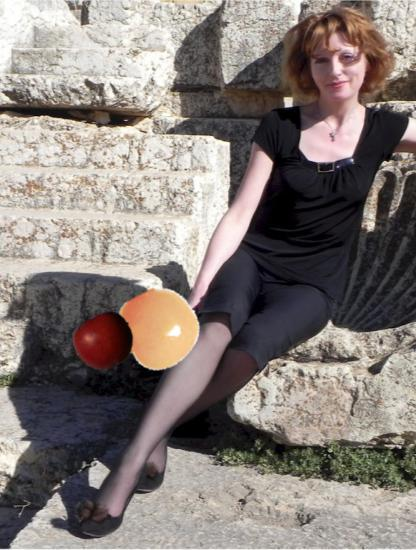Apple: (74, 311, 135, 372)
Physalis: (111, 286, 200, 375)
